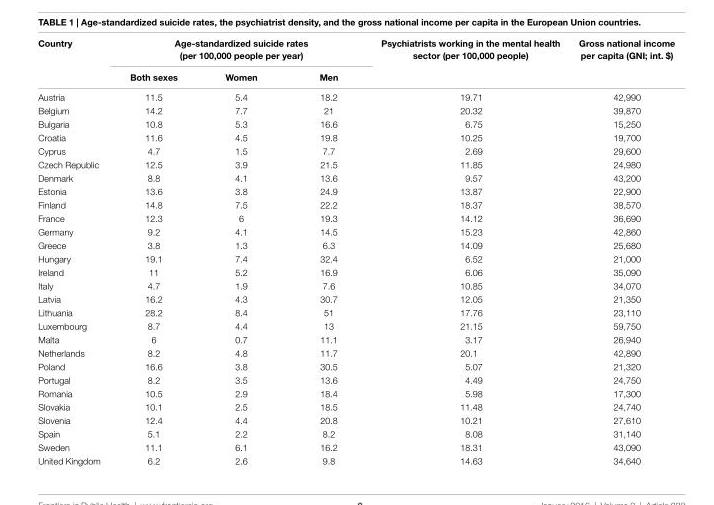table: (37, 37, 674, 465)
table column: (358, 37, 568, 465), (568, 37, 674, 465), (200, 37, 287, 465), (114, 37, 200, 465), (37, 37, 114, 465), (287, 37, 358, 465)
table column header: (37, 37, 674, 86)
table row: (37, 37, 674, 65), (37, 65, 674, 86), (37, 86, 674, 103), (37, 116, 674, 130), (37, 143, 674, 157), (37, 183, 674, 197), (37, 210, 674, 224), (37, 237, 674, 251), (37, 264, 674, 278), (37, 291, 674, 305), (37, 318, 674, 332), (37, 345, 674, 359), (37, 372, 674, 386), (37, 412, 674, 426), (37, 439, 674, 453), (37, 103, 674, 116), (37, 130, 674, 143), (37, 157, 674, 170), (37, 170, 674, 183), (37, 197, 674, 210), (37, 224, 674, 237), (37, 251, 674, 264), (37, 278, 674, 291), (37, 305, 674, 318), (37, 332, 674, 345), (37, 359, 674, 372), (37, 386, 674, 399), (37, 399, 674, 412), (37, 426, 674, 439), (37, 453, 674, 465)
table spanning cell: (358, 37, 568, 86), (114, 37, 358, 65), (568, 37, 674, 86), (37, 37, 114, 86)
